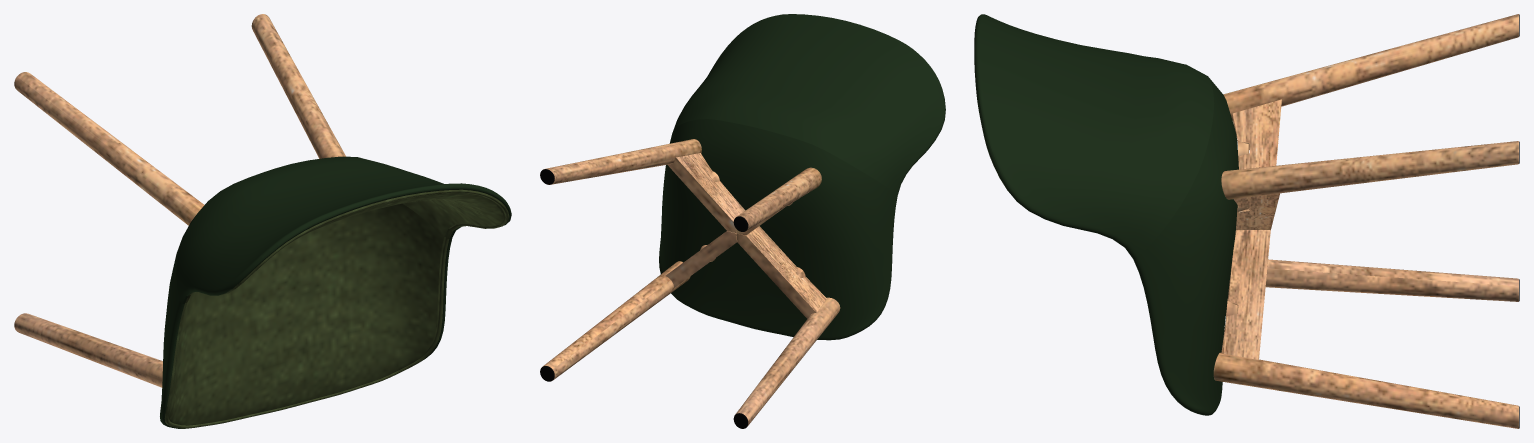
Rendered from SM_Esstischstuhl.obj.
3 views of the same model, side by side, from view 1: azimuth 30°, elevation 25°; view 2: azimuth 150°, elevation 25°; view 3: azimuth 270°, elevation 25° (orthographic). The views are drawn at different scales.
Visible parts, largest first — view 1: SM_Esstischstuhl; view 2: SM_Esstischstuhl; view 3: SM_Esstischstuhl.
Part boxes in pixels (bbox=[...]): SM_Esstischstuhl: bbox=[14, 14, 511, 428]; SM_Esstischstuhl: bbox=[540, 14, 945, 428]; SM_Esstischstuhl: bbox=[974, 14, 1519, 428].
Size of the model in its own units: 0.546 by 0.546 by 0.8288.
4 materials, 2 textured.
